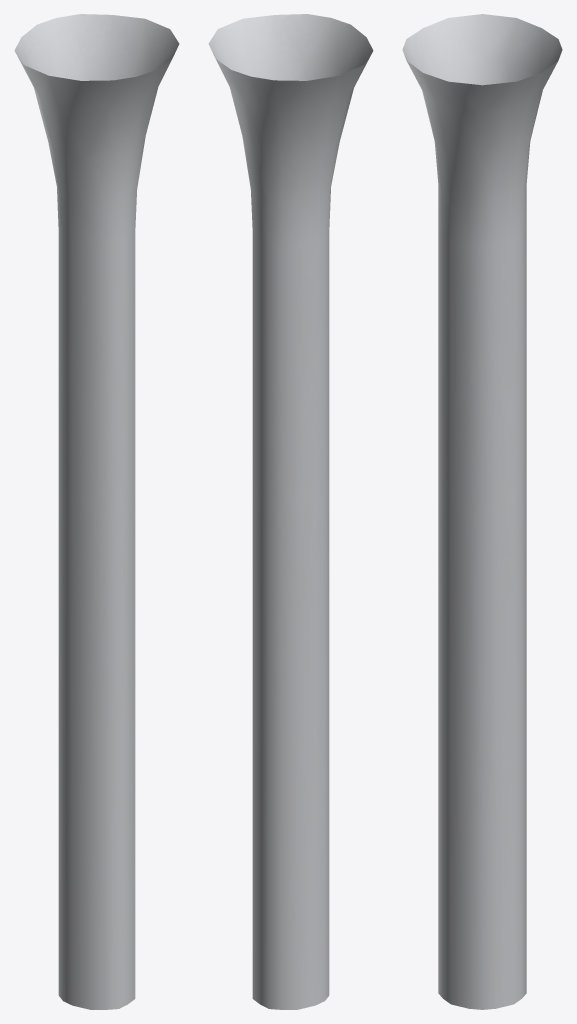
File: mesh_1002_props01b.FBX
The picture shows the model from 3 angles, left to right: view 1: azimuth 30°, elevation 25°; view 2: azimuth 150°, elevation 25°; view 3: azimuth 270°, elevation 25°; orthographic projection.
Parts seen in each view (by area): view 1: mesh_1002_props01b; view 2: mesh_1002_props01b; view 3: mesh_1002_props01b.
Part boxes in pixels (bbox=[...]): mesh_1002_props01b: bbox=[14, 14, 179, 1009]; mesh_1002_props01b: bbox=[208, 14, 373, 1009]; mesh_1002_props01b: bbox=[402, 14, 562, 1009].
Bounding box in the file's own units: 1392 × 8595 × 1322.
Materials: 1 (1 with a texture image).
